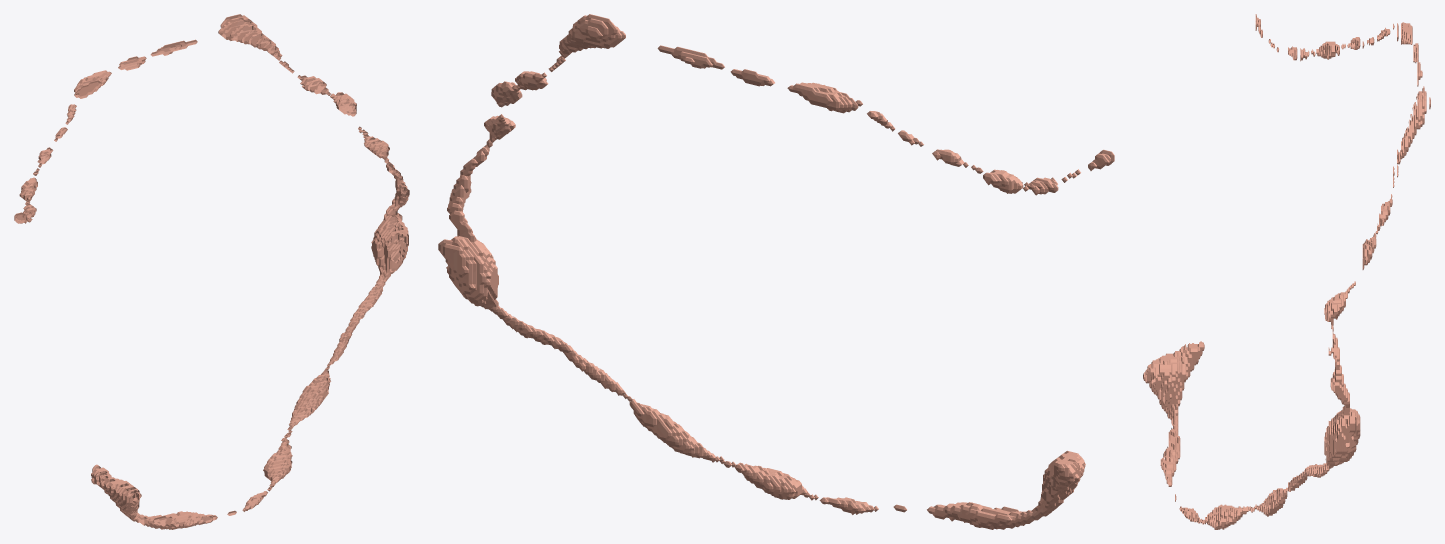
File: SVV_AINL.gltf
The picture shows the model from 3 angles, left to right: view 1: azimuth 30°, elevation 25°; view 2: azimuth 150°, elevation 25°; view 3: azimuth 270°, elevation 25°; orthographic projection. The views are drawn at different scales.
Parts seen in each view (by area): view 1: AINL; view 2: AINL; view 3: AINL.
Part boxes in pixels (x1,y1,x2,y2): AINL: [14, 14, 409, 529]; AINL: [438, 14, 1114, 529]; AINL: [1143, 14, 1430, 529].
Size of the model in its own units: 112187 by 99910 by 54696.
